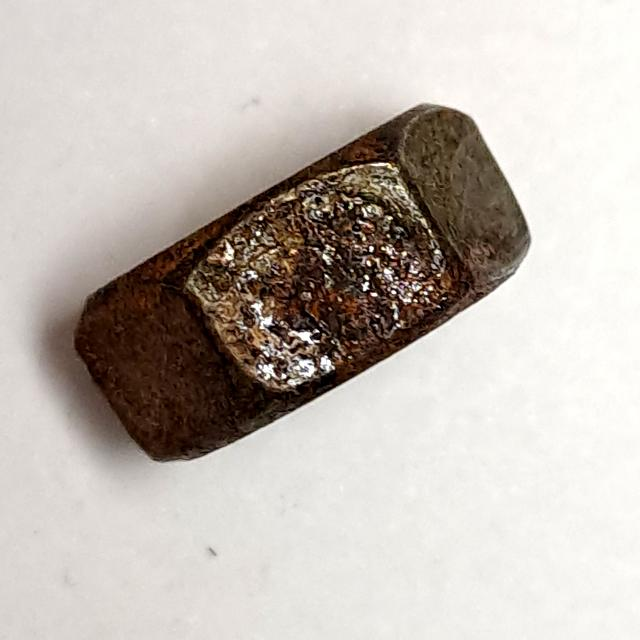Side_Rust: (66, 92, 547, 477)
